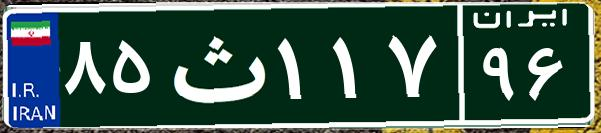1: (273, 28, 330, 110), (330, 28, 385, 110)
5: (110, 28, 158, 105)
6: (525, 38, 570, 115)
7: (385, 28, 445, 110)
8: (57, 26, 110, 107)
9: (475, 38, 525, 113)
ث: (158, 15, 273, 115)
